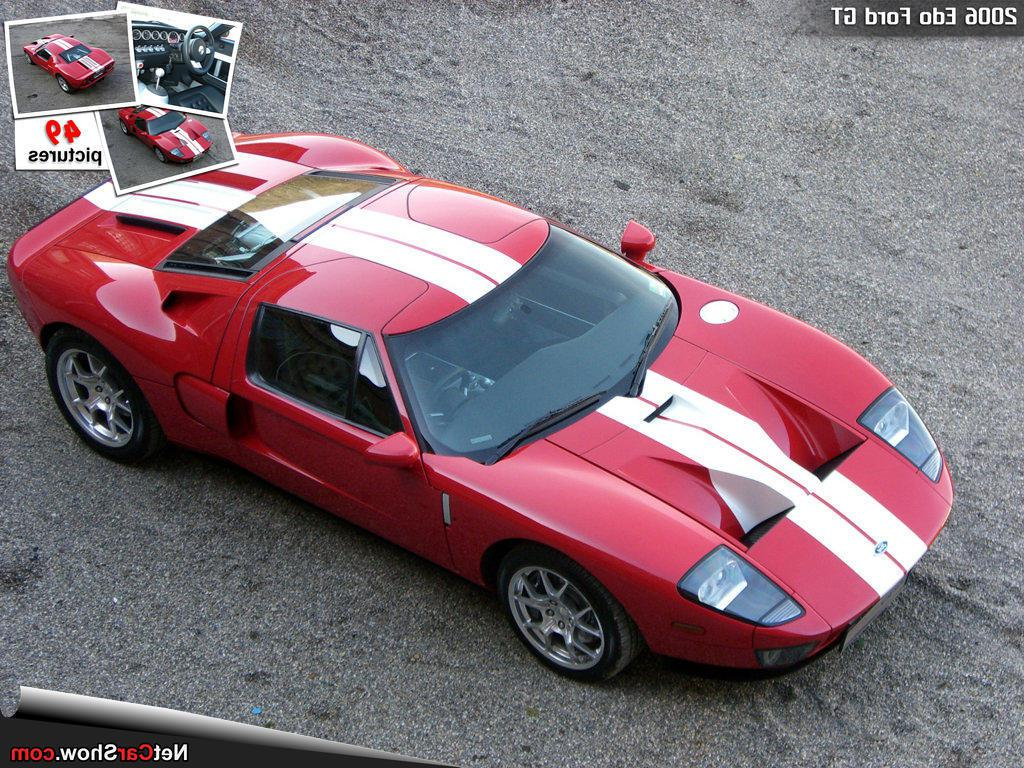Car: (2, 89, 987, 718)
